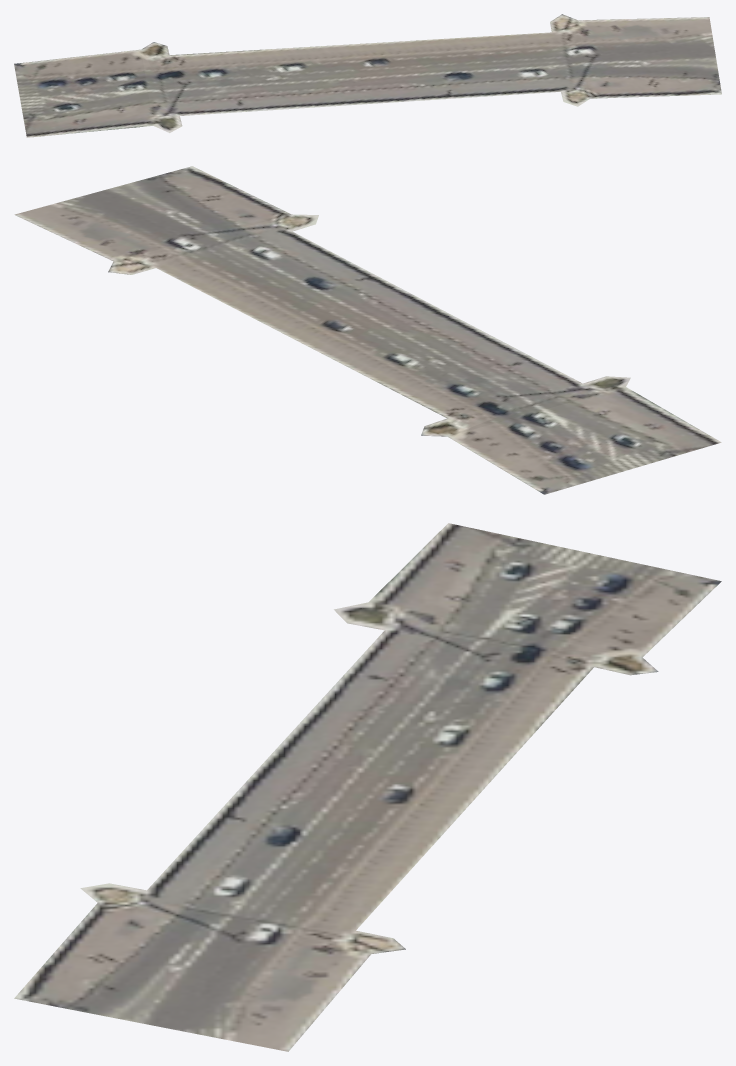
3 renders of one model, top to bottom at view 1: azimuth 30°, elevation 25°; view 2: azimuth 150°, elevation 25°; view 3: azimuth 270°, elevation 25°, orthographic. The views are drawn at different scales.
Visible parts, largest first — view 1: Z_UP; view 2: Z_UP; view 3: Z_UP.
Boxes of the visible parts, <box> form: Z_UP: <box>14,14,721,137</box>; Z_UP: <box>14,166,721,494</box>; Z_UP: <box>14,523,721,1051</box>.
Bounding box in the file's own units: 120 × 1.43 × 67.93.
1 material, 1 textured.
